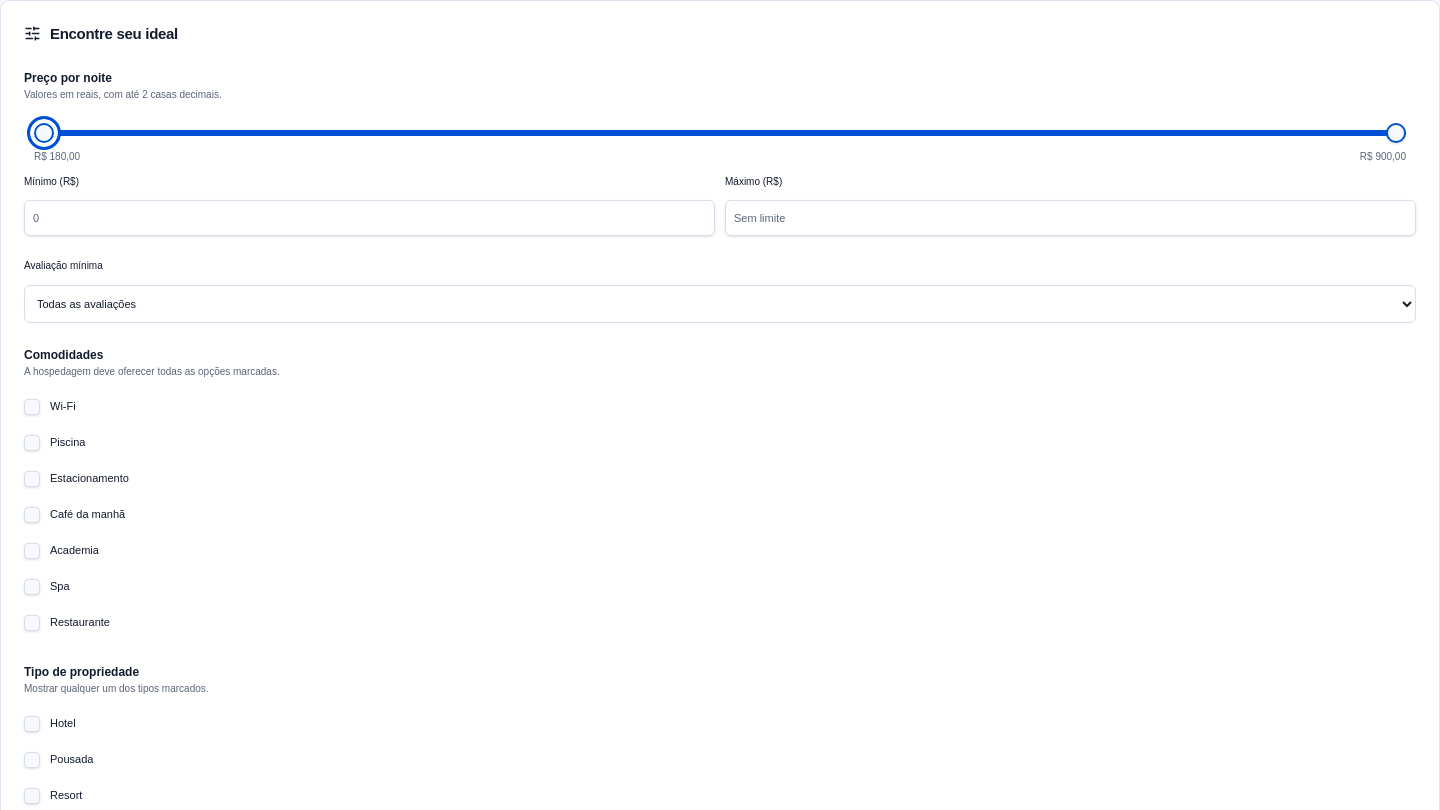
Scenario: sincroniza slider por teclado sem ativar o limite intocado
Press ArrowRight in the slider named "Preço mínimo por noite", box [34,122,54,142]
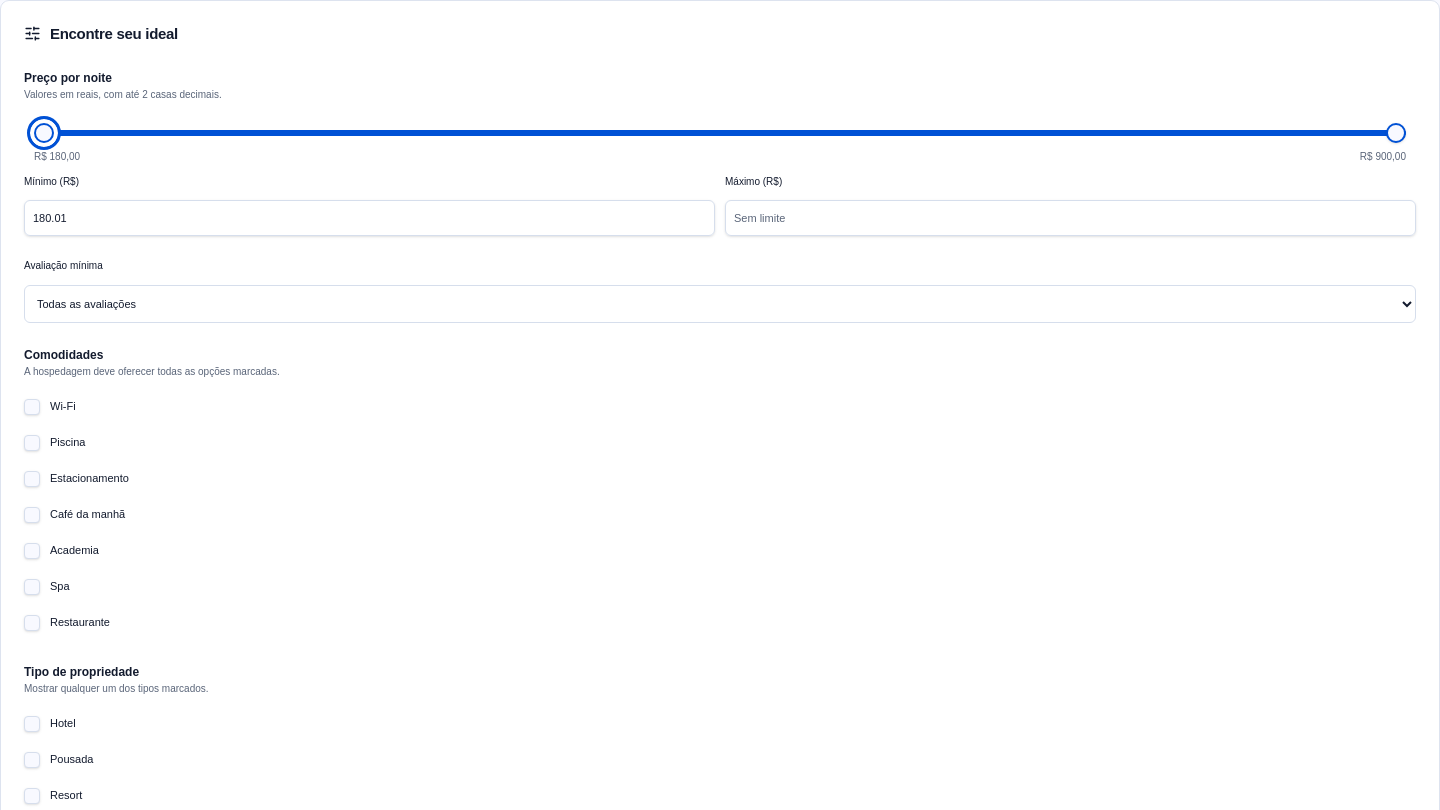
Check: the number field labelled "Mínimo (R$)" holds "180.01", box [24,200,715,236]
In the number field labelled "Máximo (R$)": (1070, 218) [725,200,1416,236], type "500.25"
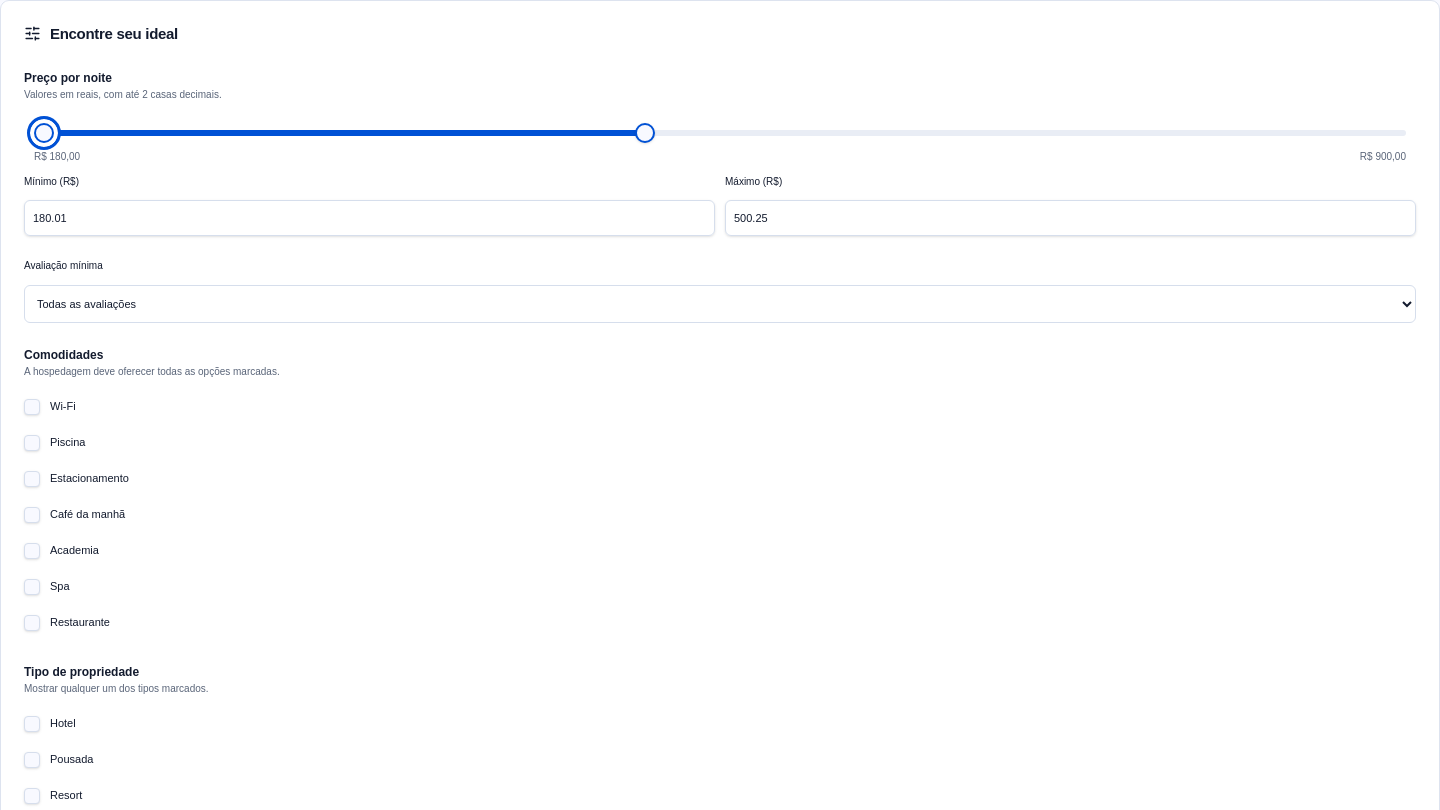
Check: the slider named "Preço máximo por noite" has attribute aria-valuenow="500.25", box [635,122,655,142]
